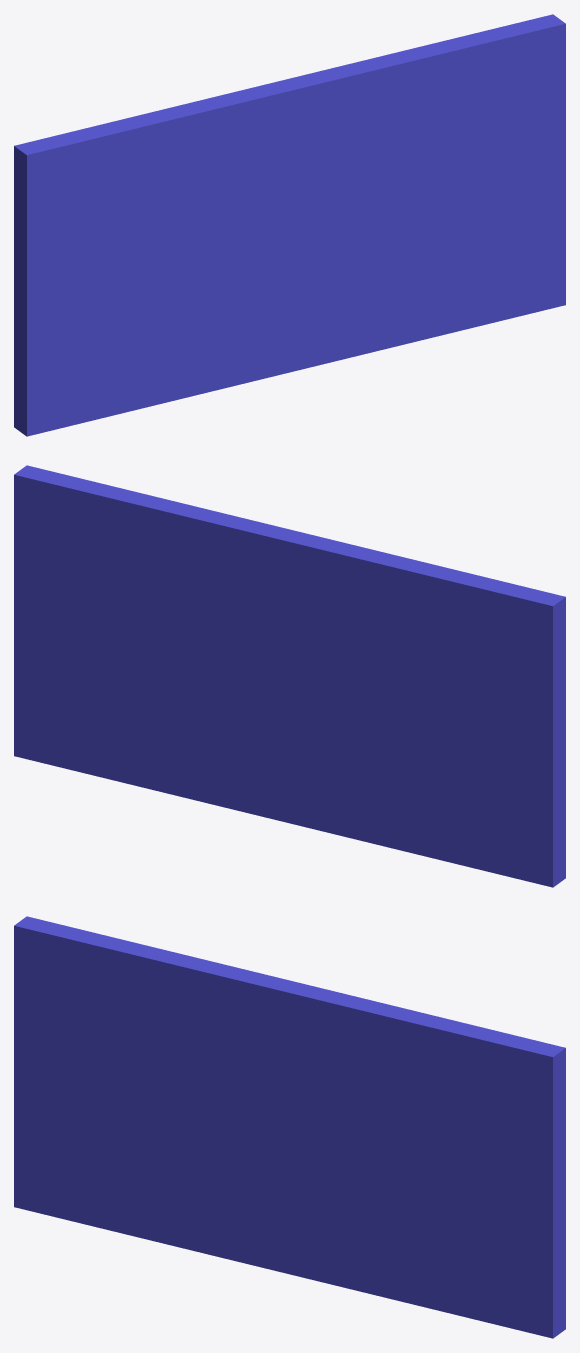
The model's file is SciFi_pipes_03.DAE.
3 renders of one model, top to bottom at view 1: azimuth 30°, elevation 25°; view 2: azimuth 150°, elevation 25°; view 3: azimuth 330°, elevation 25°, orthographic.
Parts seen in each view (by area): view 1: bounds; view 2: bounds; view 3: bounds.
Boxes of the visible parts, x1,y1,x2,y2 form: bounds: (14, 14, 565, 436); bounds: (14, 465, 565, 887); bounds: (14, 916, 565, 1338).
Size of the model in its own units: 475 by 19.62 by 237.
